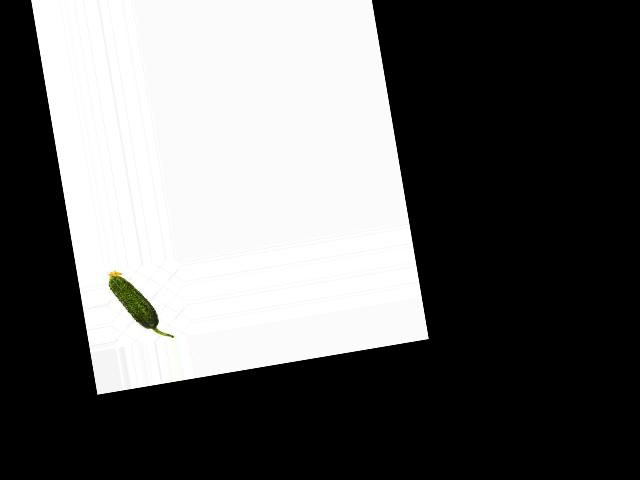cucumber: (105, 262, 173, 346)
